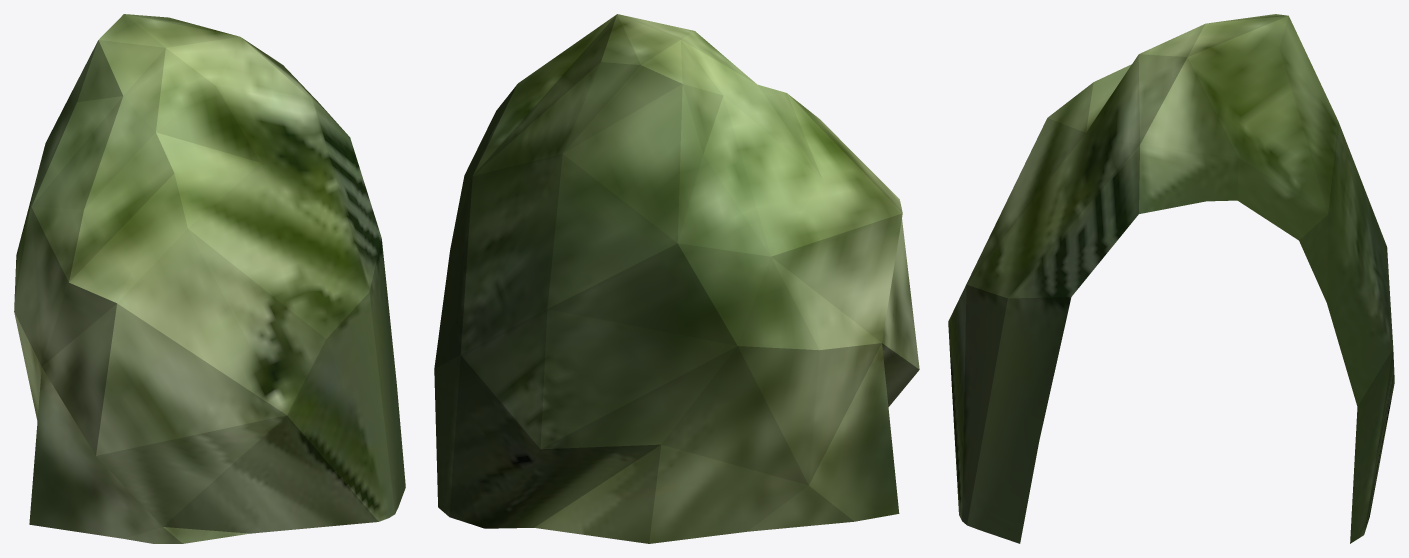
The picture shows the model from 3 angles, left to right: view 1: azimuth 30°, elevation 25°; view 2: azimuth 150°, elevation 25°; view 3: azimuth 270°, elevation 25°; orthographic projection. The views are drawn at different scales.
Size of the model in its own units: 0.6536 by 0.8166 by 0.7394.
1 material, 1 textured.
